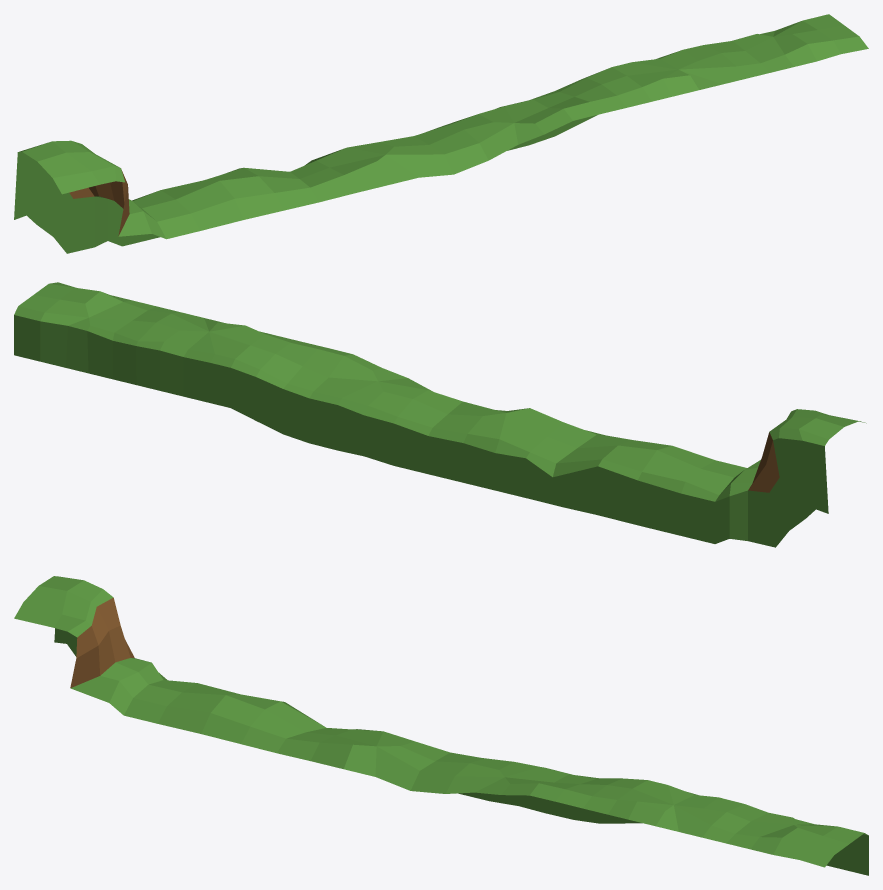
The model's file is SM_Ground.fbx.
The picture shows the model from 3 angles, top to bottom: view 1: azimuth 30°, elevation 25°; view 2: azimuth 150°, elevation 25°; view 3: azimuth 330°, elevation 25°; orthographic projection.
Visible parts, largest first — view 1: ground; view 2: ground; view 3: ground.
Part boxes in pixels (box(x1,y1,x2,y2)): ground: box(14, 14, 868, 253); ground: box(14, 282, 866, 547); ground: box(14, 576, 868, 875).
Size of the model in its own units: 27685 by 4208 by 2803.
